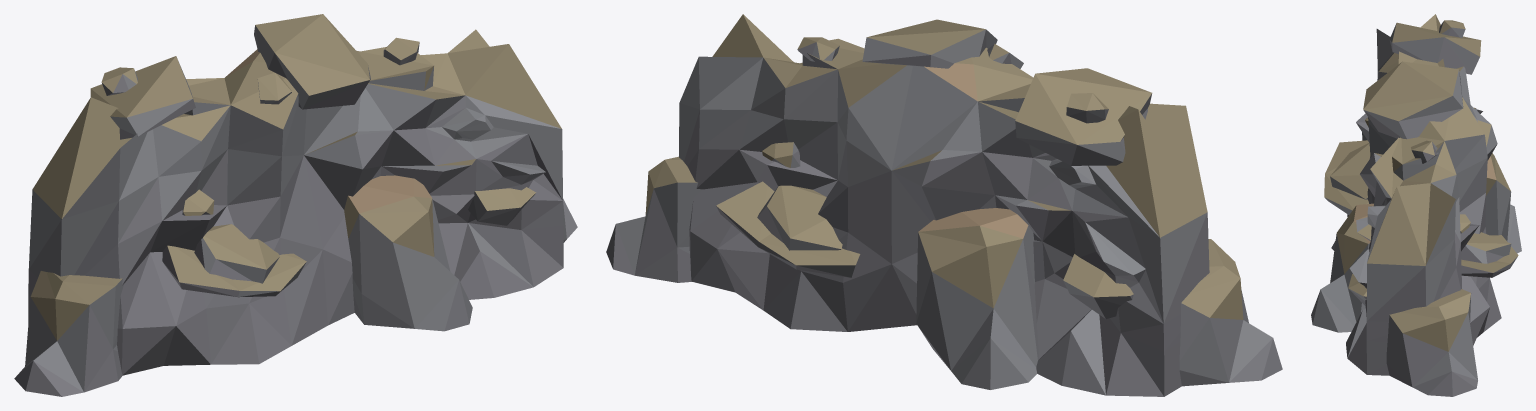
3 renders of one model, left to right at view 1: azimuth 30°, elevation 25°; view 2: azimuth 150°, elevation 25°; view 3: azimuth 270°, elevation 25°, orthographic. The views are drawn at different scales.
Parts seen in each view (by area): view 1: model; view 2: model; view 3: model.
Boxes of the visible parts, box(x1,y1,x2,y2) form: model: box(14, 14, 577, 396); model: box(606, 14, 1282, 396); model: box(1311, 14, 1521, 396).
Bounding box in the file's own units: 5.69 × 2.45 × 2.23.
